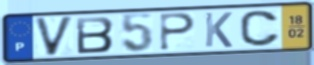5: (118, 11, 156, 54)
B: (74, 15, 116, 55)
C: (238, 9, 283, 48)
K: (203, 11, 234, 49)
P: (158, 12, 198, 52)
V: (32, 14, 76, 58)
